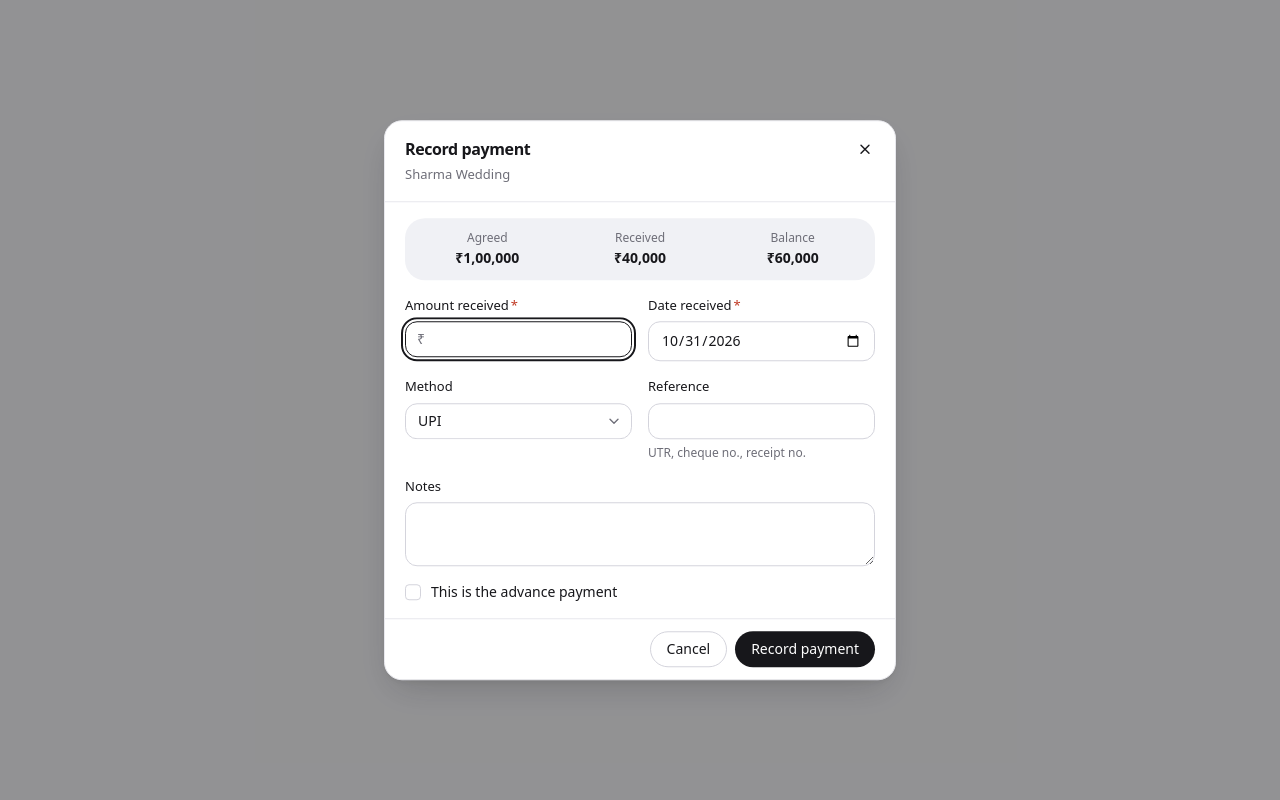
Test case: record payment dialog › rejects a zero or malformed amount with an explanation
This screenshot has width=1280, height=800.
Step 1. Type "12.345" into the field labelled "Amount received*" → (518, 339), box left=405, top=321, right=632, bottom=357
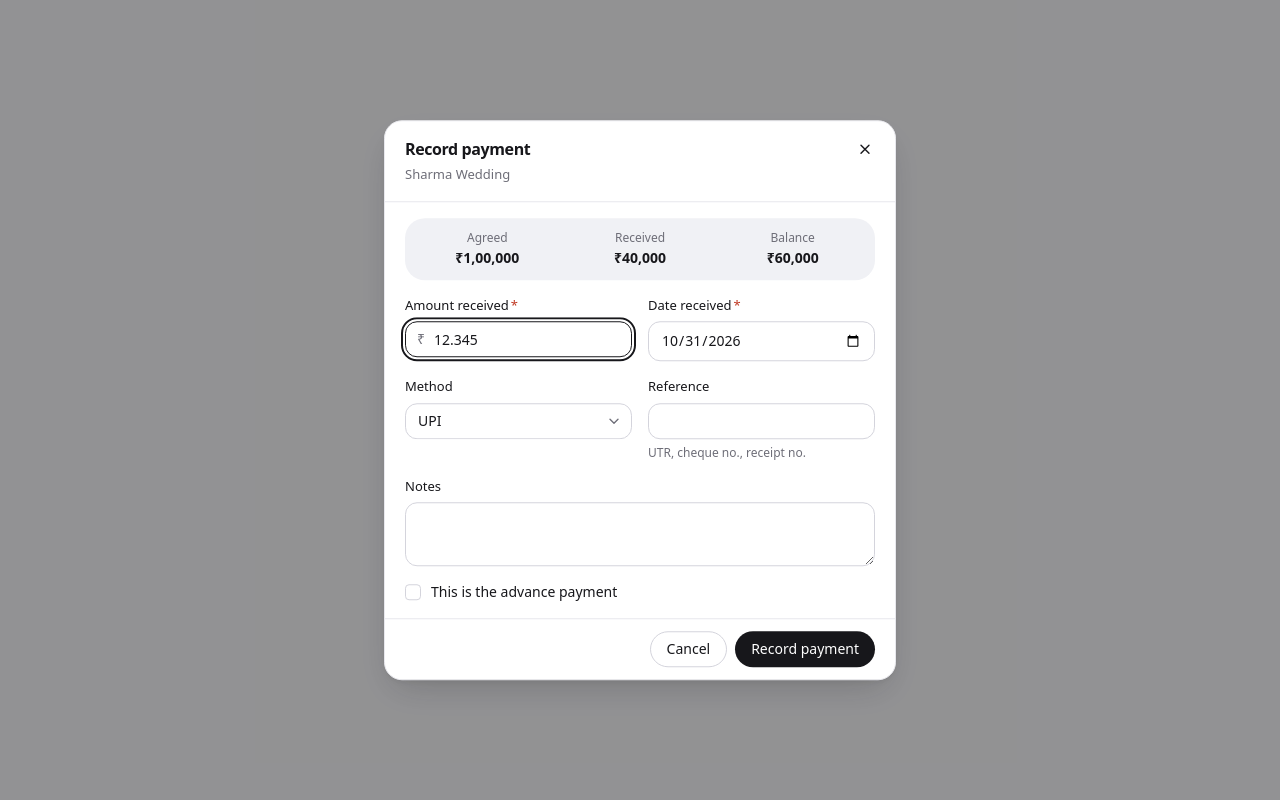
Step 2. Click the button "Record payment" → (805, 649), box left=735, top=631, right=875, bottom=667
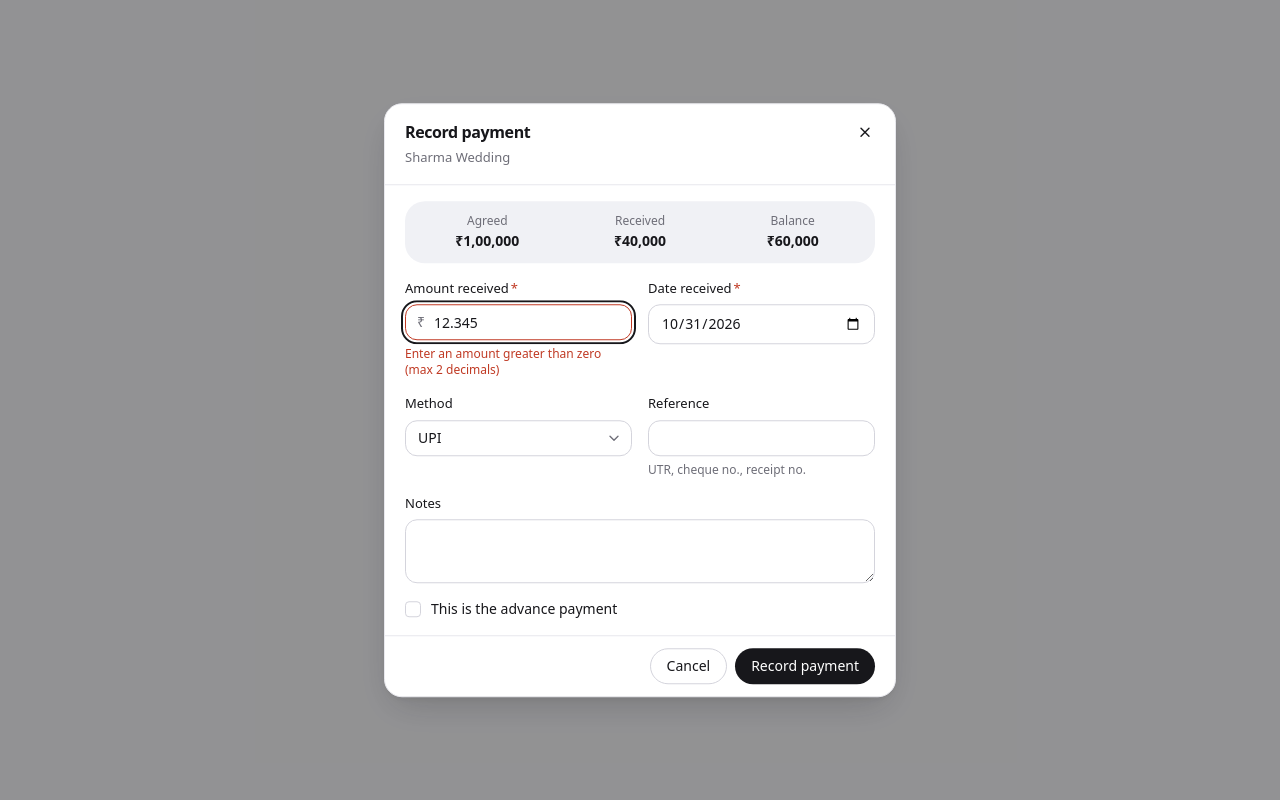
expect the text "Enter an amount greater than zero (max 2 decimals)" is shown: met, box left=405, top=346, right=632, bottom=378
